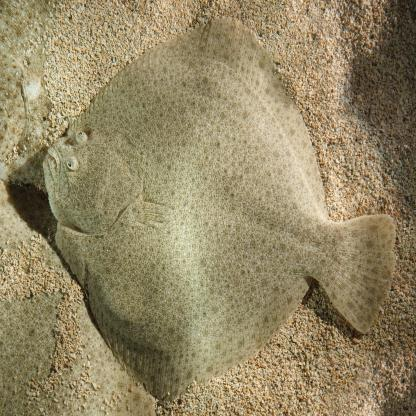flounder: (38, 9, 399, 406)
